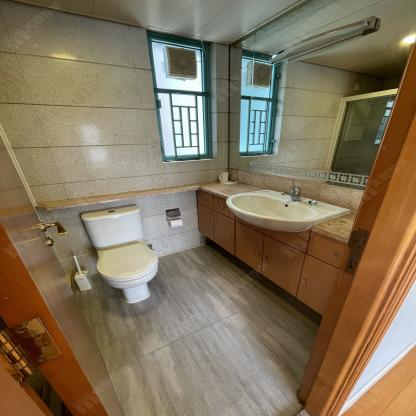Exhaust Fan: (165, 46, 198, 80)
Toilet: (80, 204, 160, 304)
Toilet Sink: (225, 186, 356, 232)
